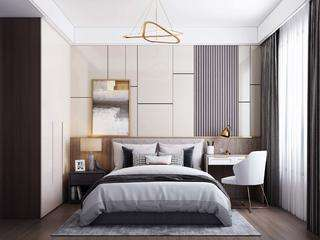床: (83, 165, 230, 230)
枕头: (120, 141, 196, 167)
灯: (121, 5, 187, 47), (81, 137, 101, 171), (216, 126, 235, 155)
